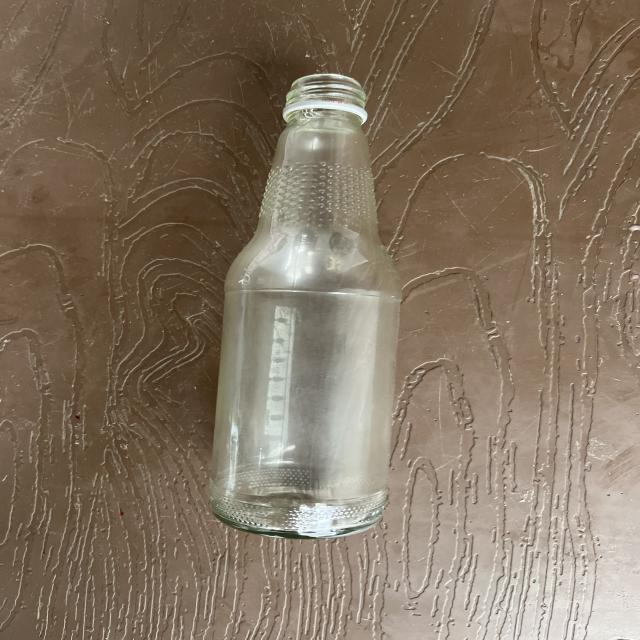Glass_Bottle: (210, 74, 401, 538)
